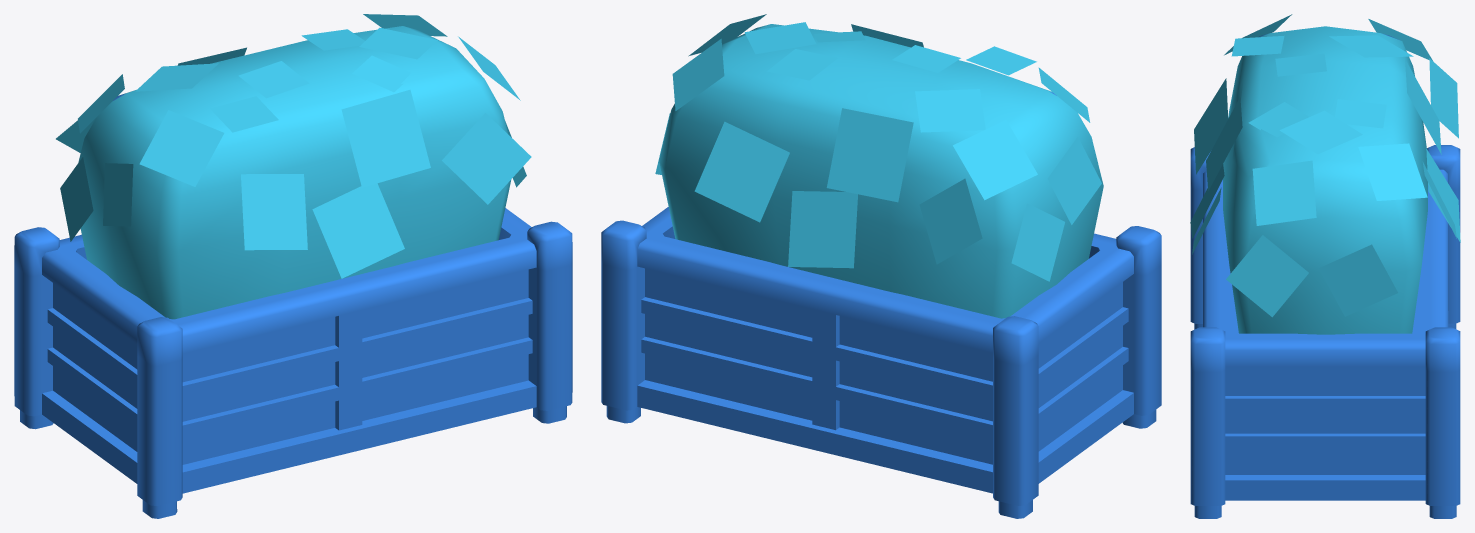
Rendered from Long Bush.fbx.
3 renders of one model, left to right at view 1: azimuth 30°, elevation 25°; view 2: azimuth 150°, elevation 25°; view 3: azimuth 270°, elevation 25°, orthographic. The views are drawn at different scales.
Parts seen in each view (by area): view 1: Long Bush; view 2: Long Bush; view 3: Long Bush.
Part boxes in pixels (box(x1,y1,x2,y2)): Long Bush: box(14, 14, 572, 518); Long Bush: box(601, 14, 1161, 518); Long Bush: box(1190, 14, 1460, 518).
Size of the model in its own units: 207 by 169 by 120.
